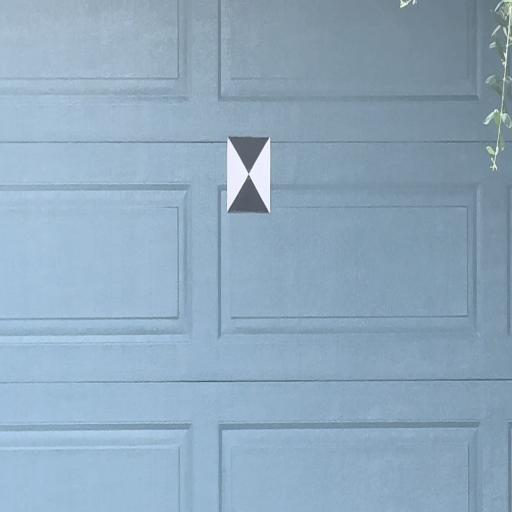target: (228, 138, 271, 212)
